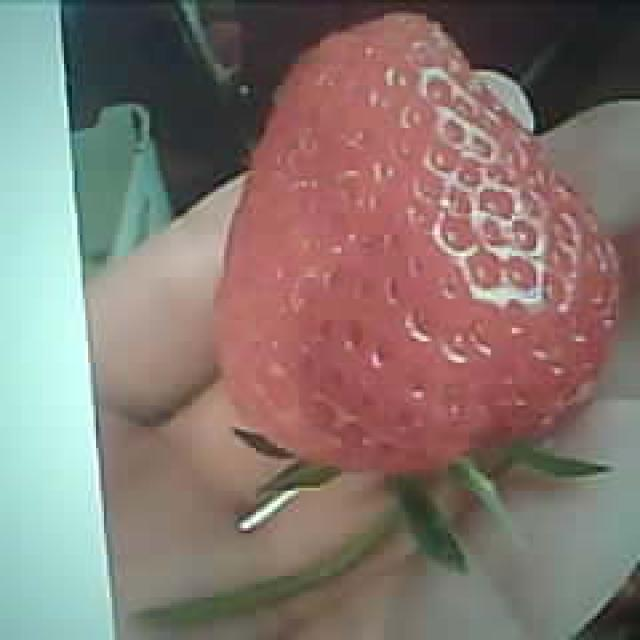ripe: (214, 11, 619, 476)
